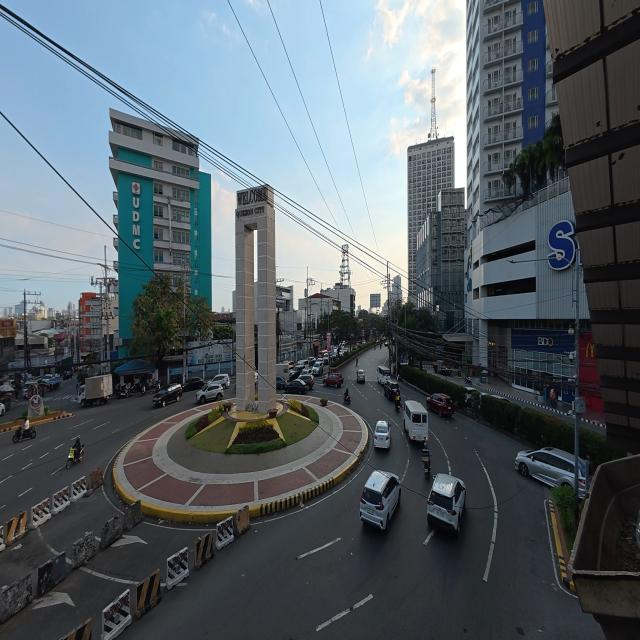car: (515, 447, 575, 490), (360, 471, 400, 529), (428, 474, 465, 535), (153, 384, 182, 407), (196, 381, 224, 404), (427, 394, 454, 416), (374, 421, 390, 449), (23, 381, 45, 398), (285, 379, 307, 394), (323, 373, 344, 388), (182, 377, 204, 391), (384, 380, 399, 400), (43, 375, 61, 391), (377, 366, 391, 385), (465, 387, 479, 406), (298, 374, 314, 390), (212, 374, 230, 388), (289, 365, 303, 381), (312, 360, 324, 376), (490, 394, 511, 403), (299, 367, 312, 377), (276, 377, 286, 389), (357, 370, 365, 383), (42, 374, 53, 383), (63, 370, 72, 379), (296, 360, 306, 368), (308, 357, 316, 367), (339, 349, 347, 357), (0, 403, 5, 415), (324, 356, 329, 366), (255, 372, 258, 385), (384, 342, 387, 347)
motorcycle: (66, 445, 84, 469), (13, 426, 36, 442), (422, 447, 431, 478), (130, 381, 146, 395), (117, 384, 130, 398), (148, 379, 160, 391), (344, 395, 352, 405), (395, 400, 401, 412), (465, 375, 472, 384), (356, 357, 358, 366)
trucks: (78, 375, 112, 406), (276, 362, 291, 380)
vans: (404, 400, 428, 441), (376, 366, 391, 384)
